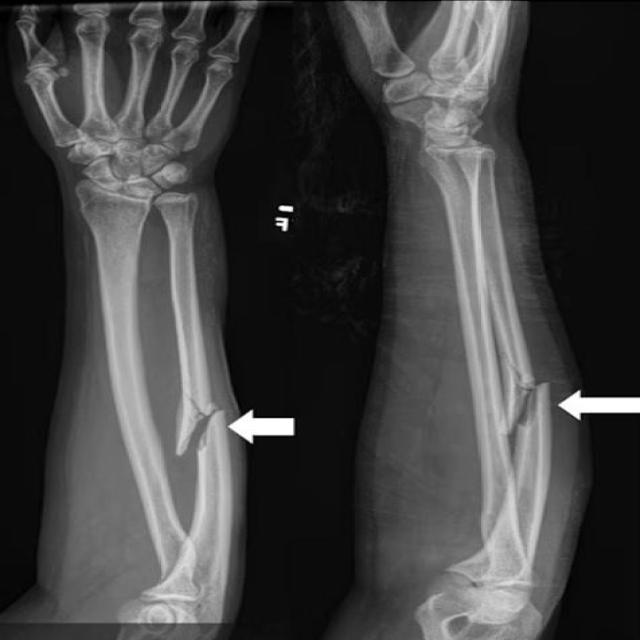bone: (498, 361, 560, 451), (170, 391, 232, 472)
